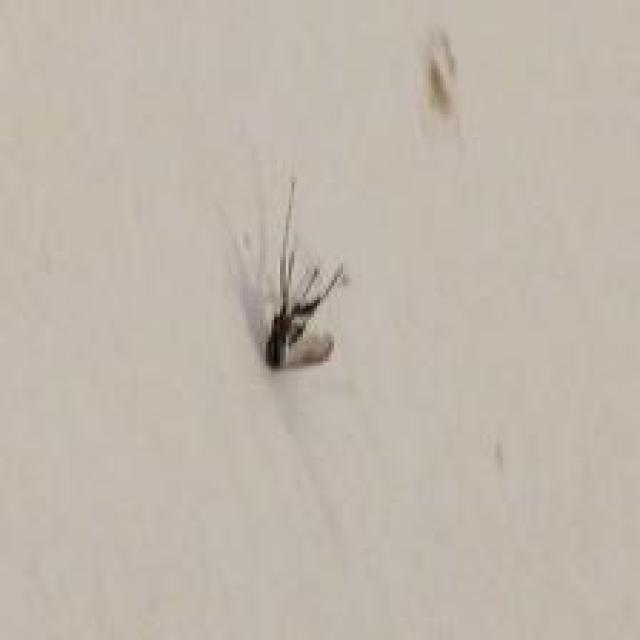Aedes albopictus: (221, 170, 350, 373)
